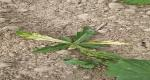bodyak: (14, 26, 130, 60)
